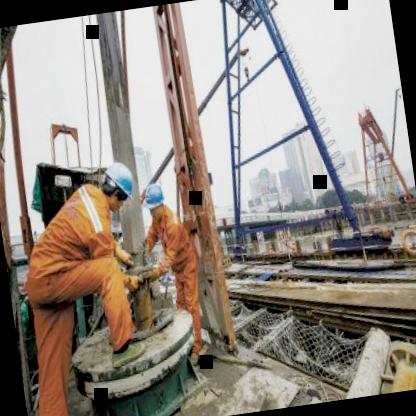helmet: (98, 160, 138, 214), (140, 177, 172, 225)
